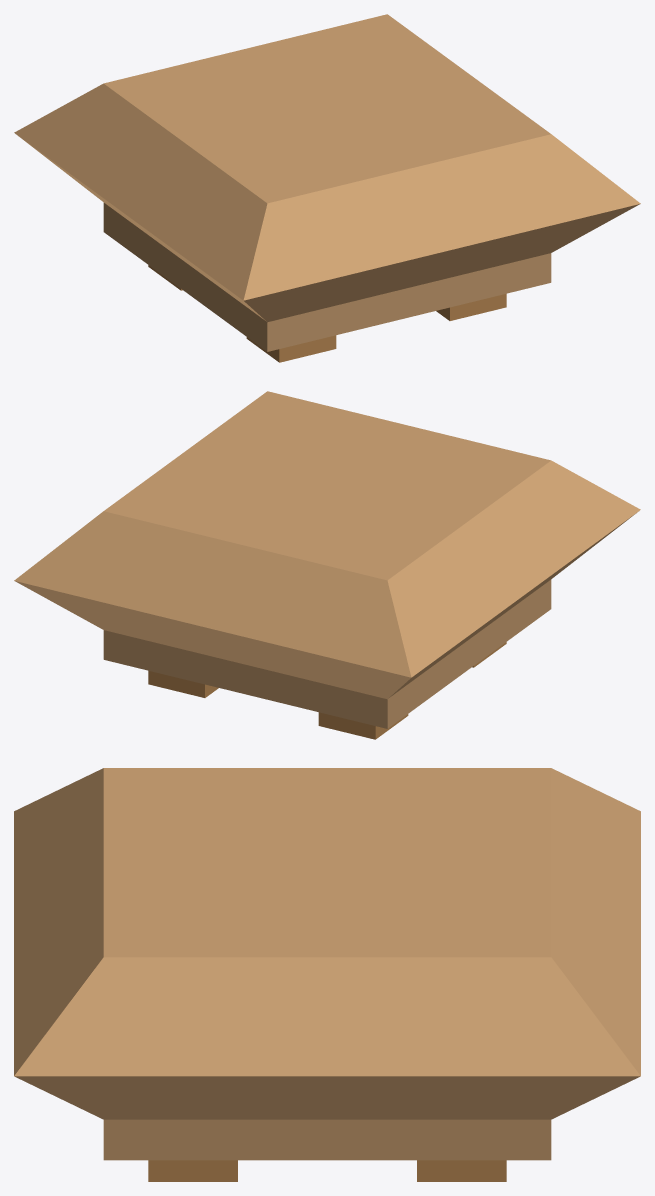
Rendered from Key_1.glb.
3 renders of one model, top to bottom at view 1: azimuth 30°, elevation 25°; view 2: azimuth 150°, elevation 25°; view 3: azimuth 270°, elevation 25°, orthographic. The views are drawn at different scales.
Parts seen in each view (by area): view 1: mergedBlocks(Clone); view 2: mergedBlocks(Clone); view 3: mergedBlocks(Clone).
Boxes of the visible parts, bbox=[...] form: mergedBlocks(Clone): bbox=[14, 14, 640, 362]; mergedBlocks(Clone): bbox=[14, 391, 640, 739]; mergedBlocks(Clone): bbox=[14, 768, 640, 1181].
Size of the model in its own units: 2.1 by 0.9 by 2.1.
